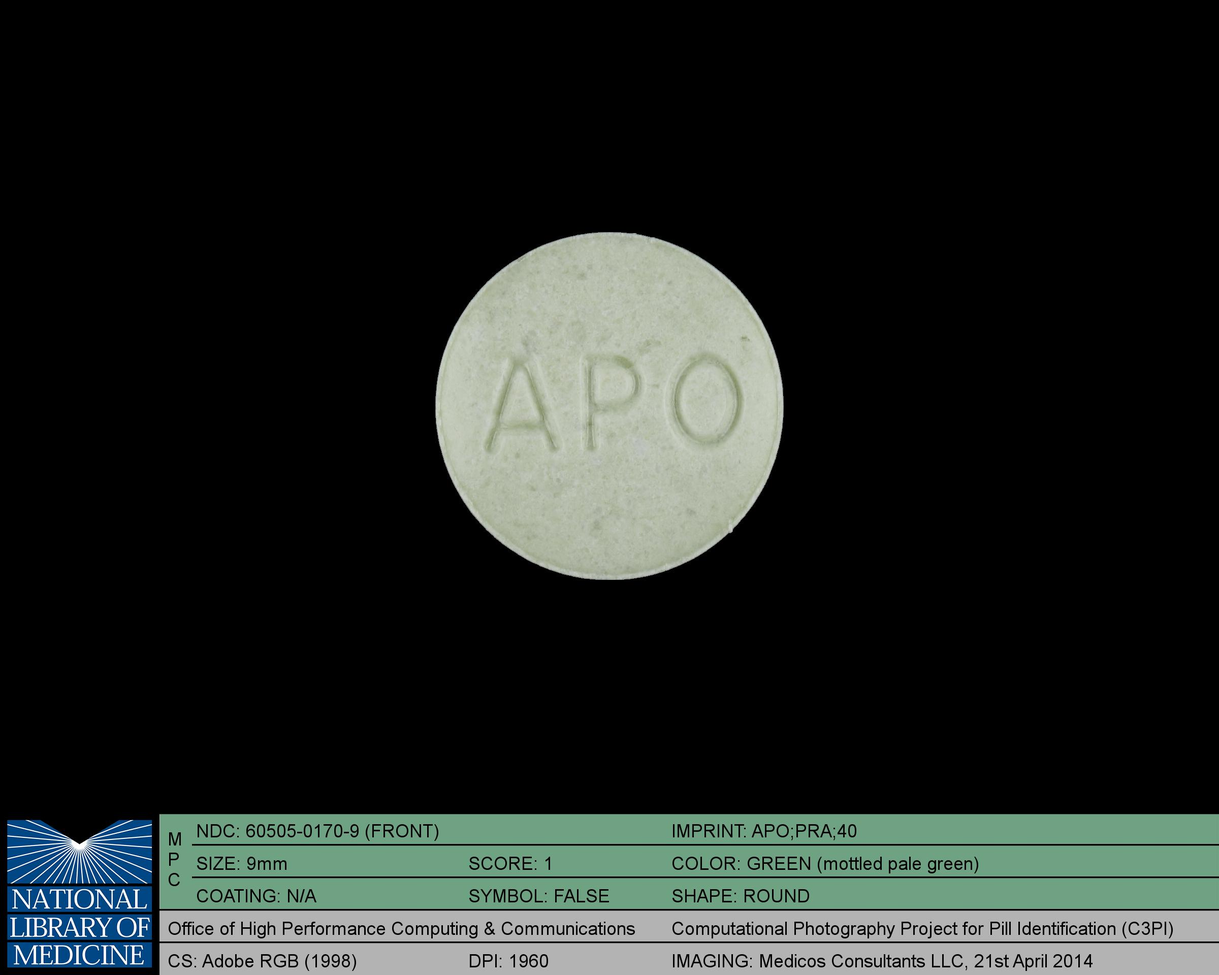Pill: (422, 217, 797, 589)
